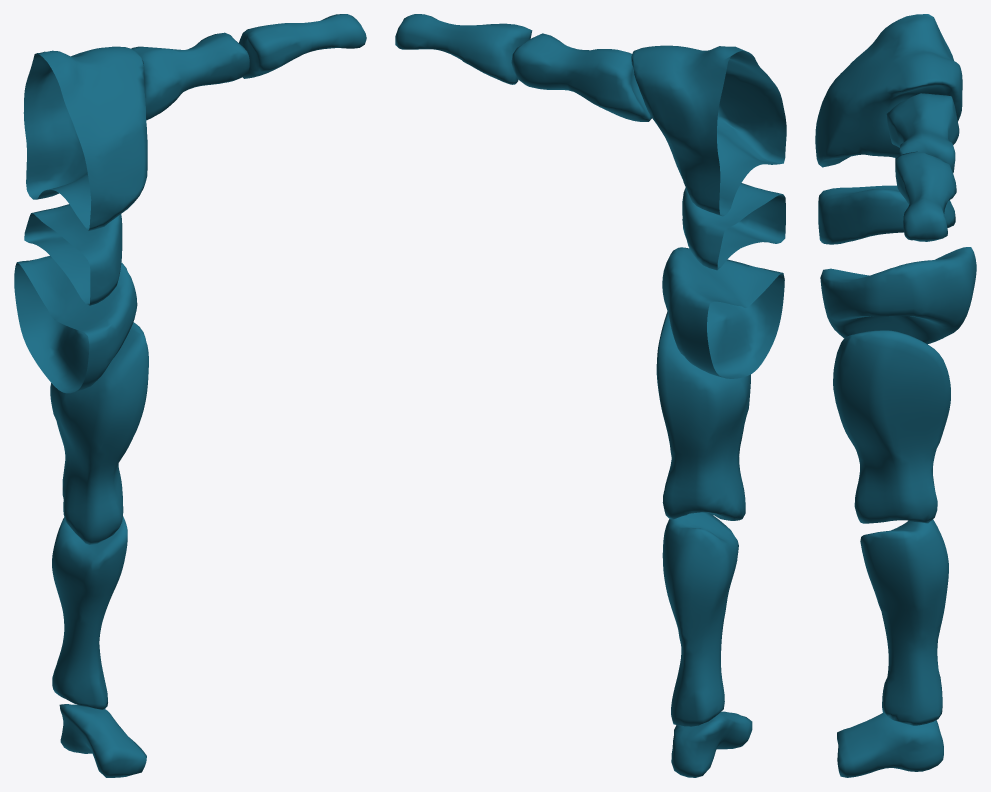
File: Alpha_Body_Mesh.obj
3 renders of one model, left to right at view 1: azimuth 30°, elevation 25°; view 2: azimuth 150°, elevation 25°; view 3: azimuth 270°, elevation 25°, orthographic. The views are drawn at different scales.
Visible parts, largest first — view 1: Alpha_Body_Mesh Alpha_Mesh_Pre_Opt_Half; view 2: Alpha_Body_Mesh Alpha_Mesh_Pre_Opt_Half; view 3: Alpha_Body_Mesh Alpha_Mesh_Pre_Opt_Half.
Boxes of the visible parts, x1,y1,x2,y2 form: Alpha_Body_Mesh Alpha_Mesh_Pre_Opt_Half: (14, 14, 366, 777); Alpha_Body_Mesh Alpha_Mesh_Pre_Opt_Half: (395, 14, 786, 777); Alpha_Body_Mesh Alpha_Mesh_Pre_Opt_Half: (815, 14, 976, 777).
Bounding box in the file's own units: 73.58 × 155 × 30.86.
